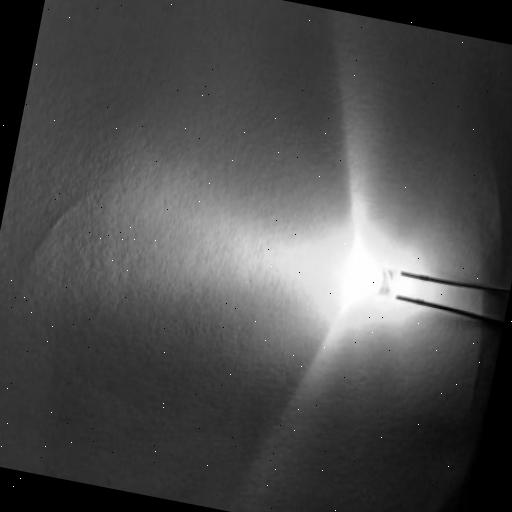LED: (334, 230, 423, 354)
